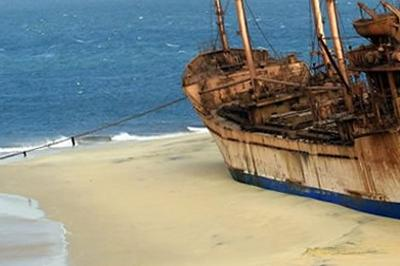rust: (354, 49, 400, 129), (355, 132, 400, 193), (355, 16, 399, 41), (243, 133, 256, 178)
